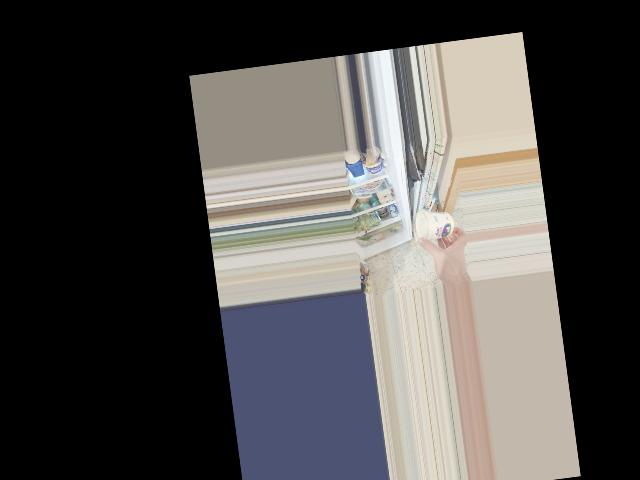cotage: (413, 206, 458, 240)
